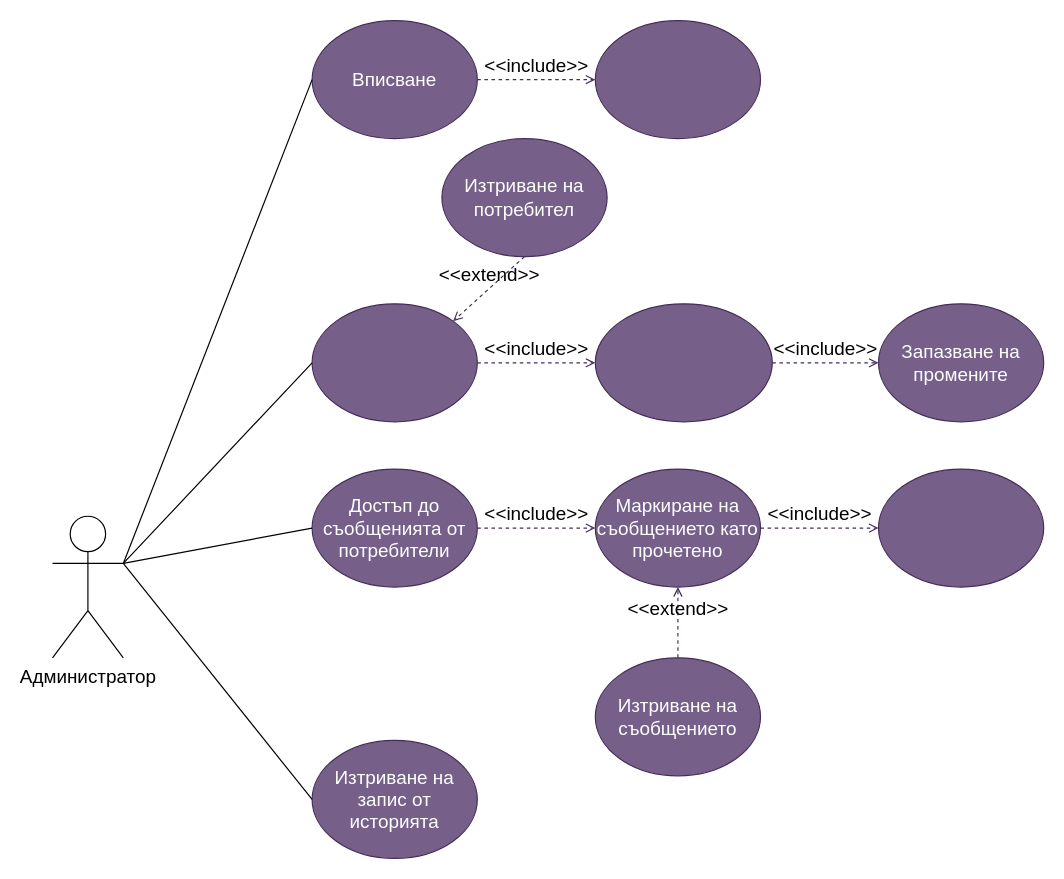
The diagram is 1064 pixels wide and 879 high, and some of its shapes have lost their labels. Each missing label, with the box of its shape:
Въвеждане на потребителско име и парола: (594, 19, 761, 139)
Изпълняване на потребителската заявка: (877, 468, 1044, 587)
Редактиране на потребител: (311, 303, 477, 422)
Редактиране на потребителско име/парола/имейл: (594, 303, 772, 422)
